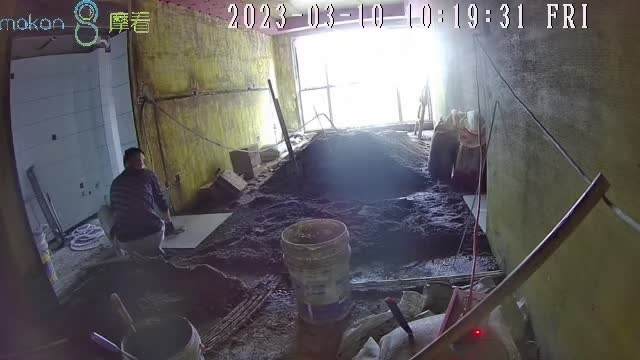people: (97, 147, 174, 258)
window: (292, 28, 449, 131)
